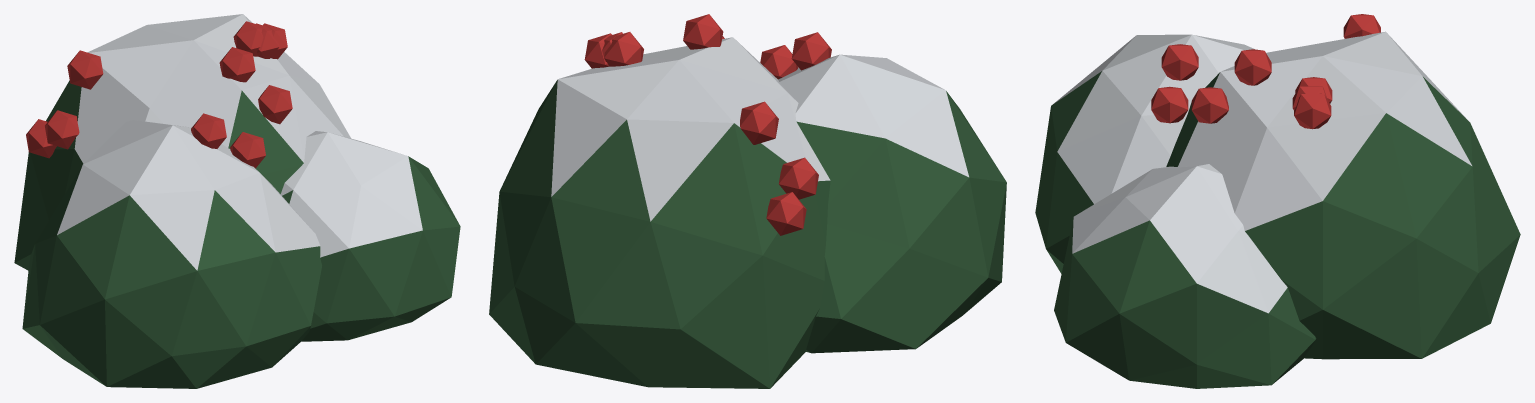
The model's file is berry_bush.glb.
3 views of the same model, side by side, from view 1: azimuth 30°, elevation 25°; view 2: azimuth 150°, elevation 25°; view 3: azimuth 270°, elevation 25° (orthographic). The views are drawn at different scales.
Parts seen in each view (by area): view 1: Bush, Berries; view 2: Bush, Berries; view 3: Bush, Berries.
Boxes of the visible parts, x1,y1,x2,y2 form: Bush: [14, 14, 460, 388]; Berries: [26, 21, 292, 168]; Bush: [489, 37, 1006, 388]; Berries: [584, 14, 831, 235]; Bush: [1035, 31, 1520, 388]; Berries: [1151, 14, 1380, 129].
Bounding box in the file's own units: 1 × 0.5754 × 1.
